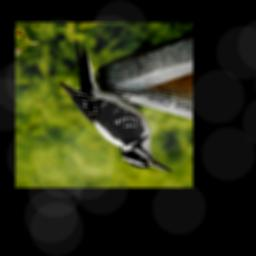Woodpecker: (60, 38, 173, 176)
